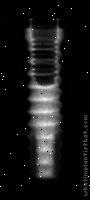BioHorizons: (23, 20, 65, 181)
